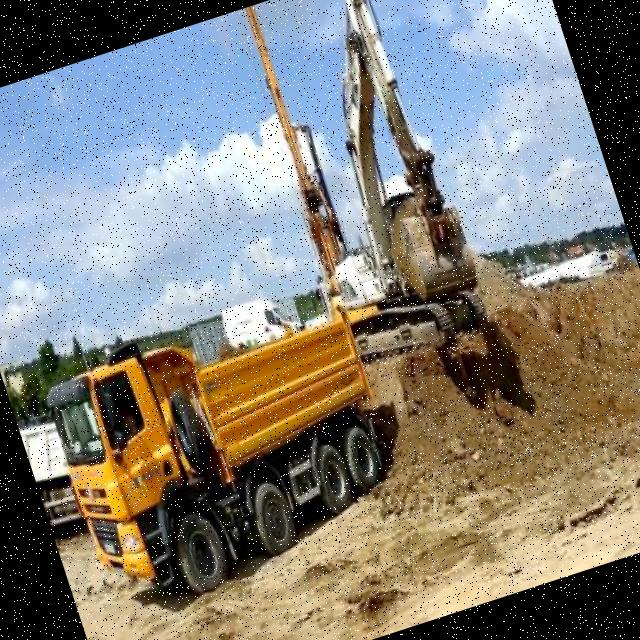Dump Truck: (28, 268, 418, 628)
Excavator: (242, 0, 496, 379)
